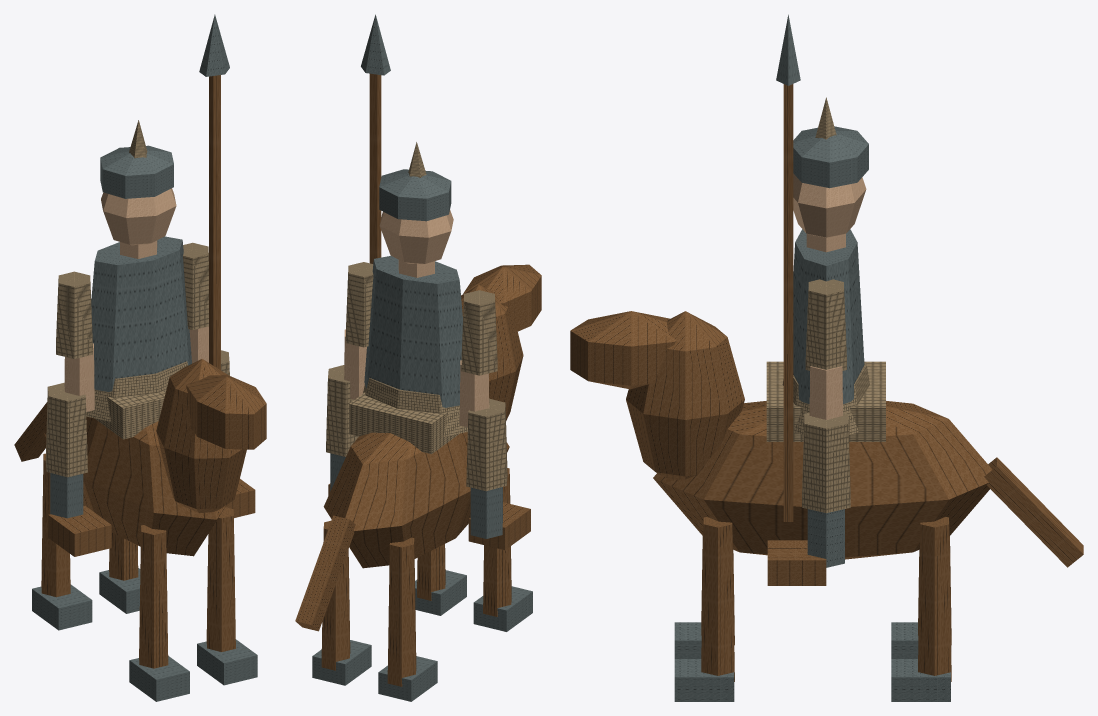
Rendered from unit-CAVALRY-lod1.glb.
The picture shows the model from 3 angles, left to right: view 1: azimuth 30°, elevation 25°; view 2: azimuth 150°, elevation 25°; view 3: azimuth 270°, elevation 25°; orthographic projection. The views are drawn at different scales.
Bounding box in the file's own units: 0.218 × 0.705 × 0.4738.
1 material, 1 textured.
